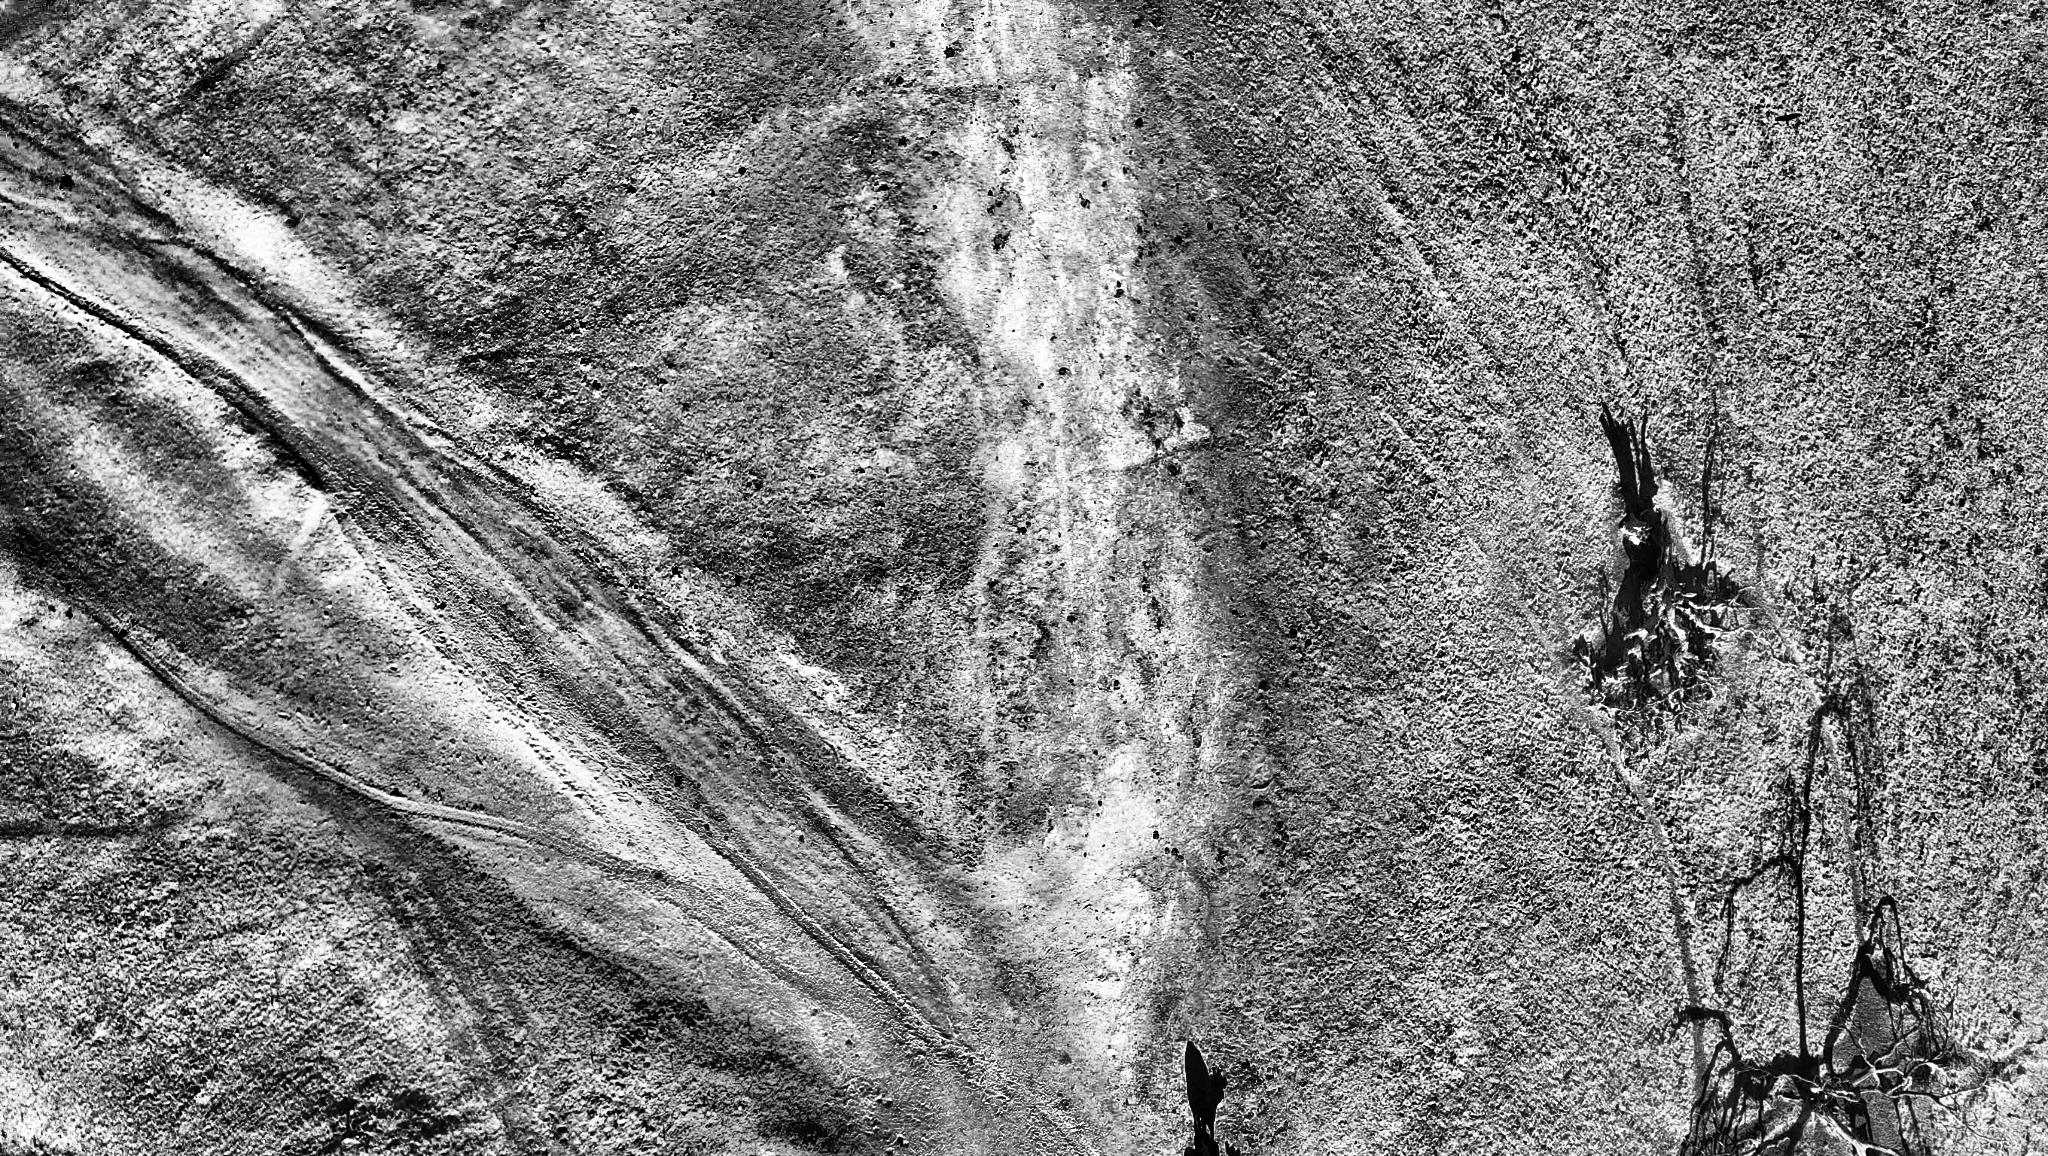herd: (1191, 1124, 1220, 1156)
